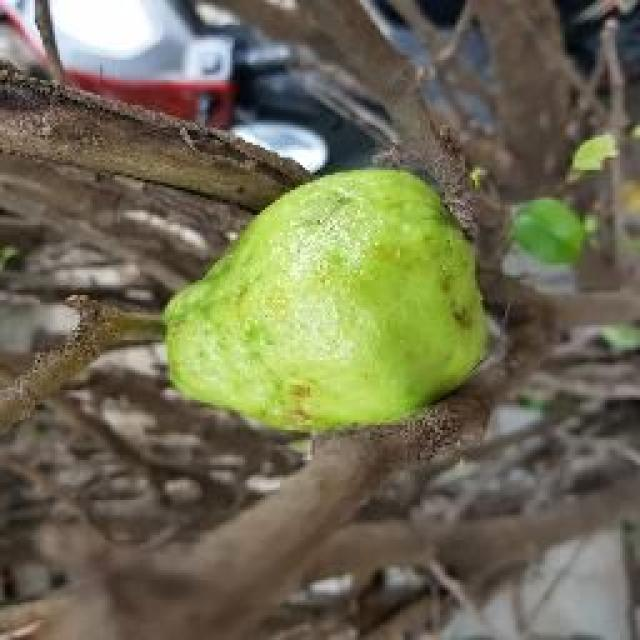Good_Guava: (160, 168, 490, 438)
